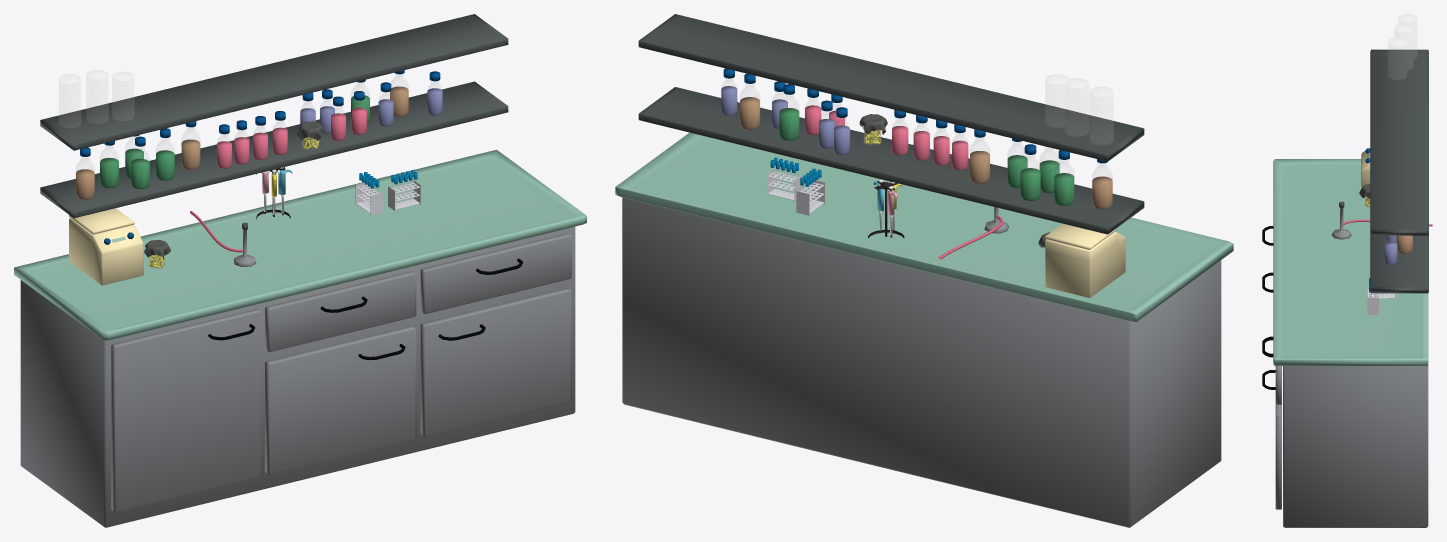
File: lab_bench.glb
3 views of the same model, side by side, from view 1: azimuth 30°, elevation 25°; view 2: azimuth 150°, elevation 25°; view 3: azimuth 270°, elevation 25° (orthographic). The views are drawn at different scales.
Parts seen in each view (by area): view 1: Torus.000, Torus.004, Torus.002, Cube, Circle.011, Circle.003, Torus.003, Circle.012, Icosphere.002, inhalt.002, inhalt.005, inhalt (+5 smaller); view 2: Torus.000, Torus.004, Torus.002, Cube, Circle.011, Circle.003, Circle.012, Icosphere.002, inhalt.003, inhalt.006, inhalt.001, inhalt.007 (+6 smaller); view 3: Torus.000, Torus.004, Torus.002, Circle.012, Torus.003, Circle.003, Cube, inhalt_klein.001, inhalt.007, Circle.013, Plane.004, Circle.011.
Boxes of the visible parts, <box> form: Torus.000: <box>20,226,575,527</box>; Torus.004: <box>14,149,586,340</box>; Torus.002: <box>40,14,508,218</box>; Cube: <box>69,208,143,285</box>; Circle.011: <box>59,75,80,127</box>; Circle.003: <box>87,71,107,123</box>; Torus.003: <box>208,258,522,360</box>; Circle.012: <box>113,72,133,120</box>; Icosphere.002: <box>256,167,292,219</box>; inhalt.002: <box>131,136,149,189</box>; inhalt.005: <box>156,128,174,180</box>; inhalt: <box>76,147,94,199</box>; Torus.000: <box>622,197,1221,527</box>; Torus.004: <box>615,132,1233,321</box>; Torus.002: <box>638,14,1144,234</box>; Cube: <box>1045,223,1125,297</box>; Circle.011: <box>1090,87,1113,144</box>; Circle.003: <box>1066,79,1088,136</box>; Circle.012: <box>1045,75,1067,127</box>; Icosphere.002: <box>868,180,904,238</box>; inhalt.003: <box>1020,144,1040,200</box>; inhalt.006: <box>779,84,799,140</box>; inhalt.001: <box>1054,150,1074,205</box>; inhalt.007: <box>740,73,759,129</box>; Torus.000: <box>1275,364,1428,527</box>; Torus.004: <box>1273,159,1428,365</box>; Torus.002: <box>1370,49,1428,293</box>; Circle.012: <box>1388,38,1406,79</box>; Torus.003: <box>1262,226,1275,389</box>; Circle.003: <box>1395,25,1412,69</box>; Cube: <box>1361,148,1370,197</box>; inhalt_klein.001: <box>1384,236,1397,264</box>; inhalt.007: <box>1396,235,1412,253</box>; Circle.013: <box>1331,201,1351,239</box>; Plane.004: <box>1367,287,1378,314</box>; Circle.011: <box>1399,15,1416,58</box>.
Bounding box in the file's own units: 2.62 × 2.01 × 0.938.
2 materials, 2 textured.
